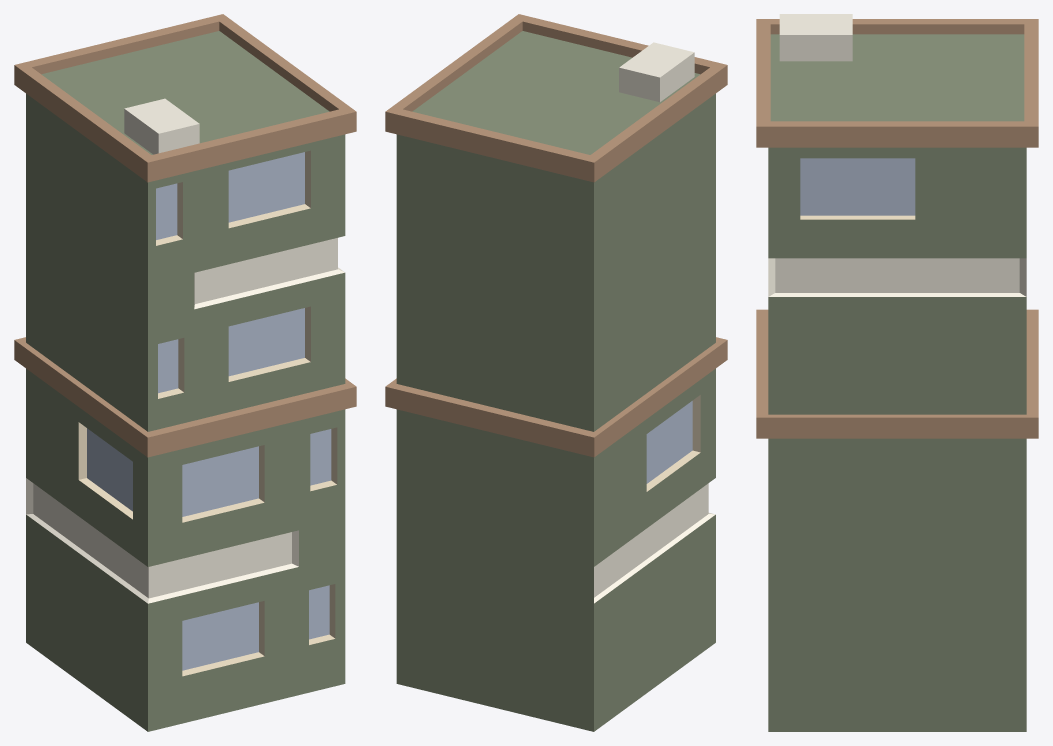
The model's file is skyline.fbx.
3 renders of one model, left to right at view 1: azimuth 30°, elevation 25°; view 2: azimuth 150°, elevation 25°; view 3: azimuth 270°, elevation 25°, orthographic. The views are drawn at different scales.
Visible parts, largest first — view 1: polySurface319; view 2: polySurface319; view 3: polySurface319.
Boxes of the visible parts, x1,y1,x2,y2 form: polySurface319: (14,14,356,731); polySurface319: (385,14,727,731); polySurface319: (756,14,1038,731).
Bounding box in the file's own units: 2.82 × 7.62 × 3.12.
